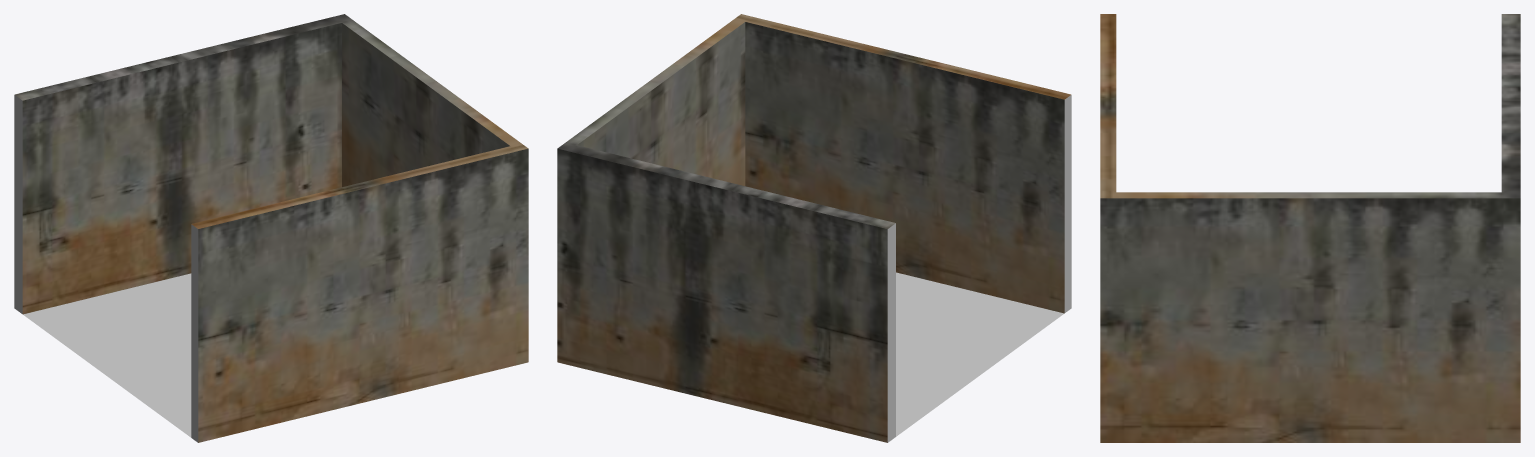
The model's file is torture_room.FBX.
3 views of the same model, side by side, from view 1: azimuth 30°, elevation 25°; view 2: azimuth 150°, elevation 25°; view 3: azimuth 270°, elevation 25° (orthographic). The views are drawn at different scales.
Visible parts, largest first — view 1: torture_room_walls, torture_room_floor; view 2: torture_room_walls, torture_room_floor; view 3: torture_room_walls.
Part boxes in pixels (x1,y1,x2,y2): torture_room_walls: (14,14,528,442); torture_room_floor: (23,273,191,437); torture_room_walls: (557,14,1071,442); torture_room_floor: (896,272,1064,436); torture_room_walls: (1100,14,1520,442).
Bounding box in the file's own units: 452 × 280 × 436.
